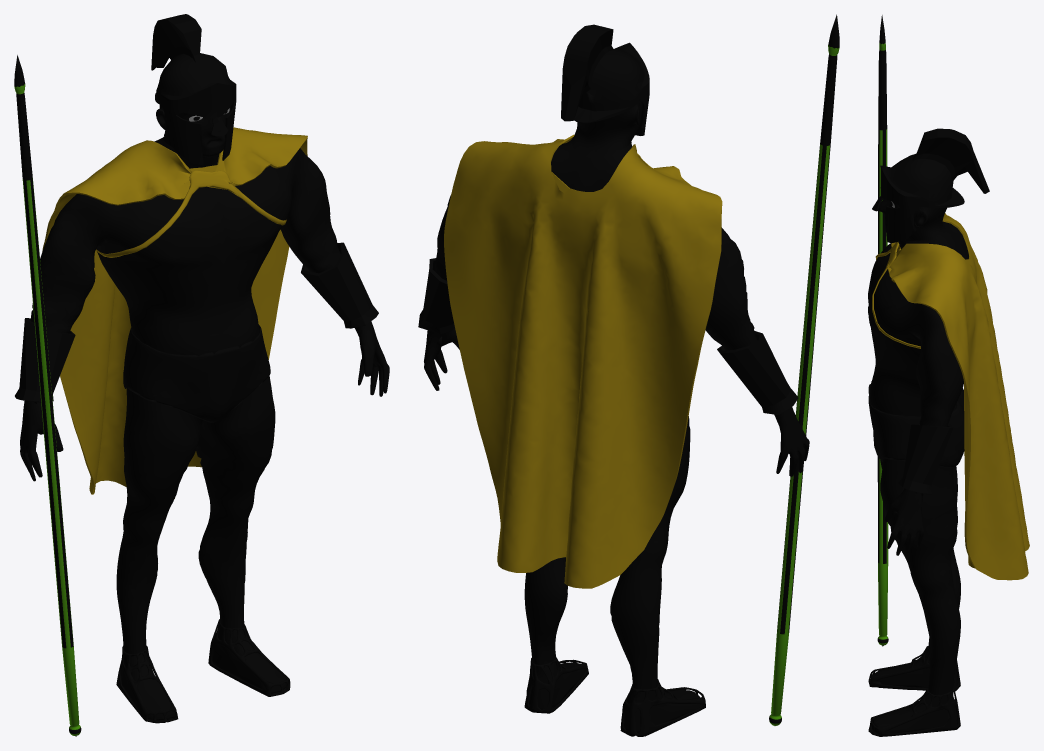
The model's file is spartan_protagonist_001.obj.
The picture shows the model from 3 angles, left to right: view 1: azimuth 30°, elevation 25°; view 2: azimuth 150°, elevation 25°; view 3: azimuth 270°, elevation 25°; orthographic projection. The views are drawn at different scales.
Parts seen in each view (by area): view 1: Head, Donut001, Object003, spartan_helmet, Cylinder001, Object001, boot, Object004; view 2: Donut001, Head, Cylinder001, spartan_helmet, Object001, boot; view 3: Head, Donut001, spartan_helmet, Cylinder001, Object003, Object001, boot, Object004.
Part boxes in pixels (bbox=[...]): Head: bbox=[20, 105, 389, 719]; Donut001: bbox=[42, 127, 307, 498]; Object003: bbox=[123, 324, 270, 422]; spartan_helmet: bbox=[151, 14, 236, 165]; Cylinder001: bbox=[14, 55, 81, 736]; Object001: bbox=[15, 242, 378, 402]; boot: bbox=[116, 619, 290, 723]; Object004: bbox=[96, 170, 286, 257]; Donut001: bbox=[444, 134, 722, 588]; Head: bbox=[424, 101, 809, 733]; Cylinder001: bbox=[769, 14, 839, 725]; spartan_helmet: bbox=[561, 24, 649, 135]; Object001: bbox=[418, 258, 798, 414]; boot: bbox=[524, 657, 705, 736]; Head: bbox=[868, 199, 968, 733]; Donut001: bbox=[887, 213, 1029, 580]; spartan_helmet: bbox=[872, 128, 989, 243]; Cylinder001: bbox=[877, 15, 888, 646]; Object003: bbox=[868, 381, 964, 467]; Object001: bbox=[897, 424, 953, 494]; boot: bbox=[868, 646, 960, 736]; Object004: bbox=[872, 242, 920, 348].
Size of the model in its own units: 117 by 204 by 49.22.
